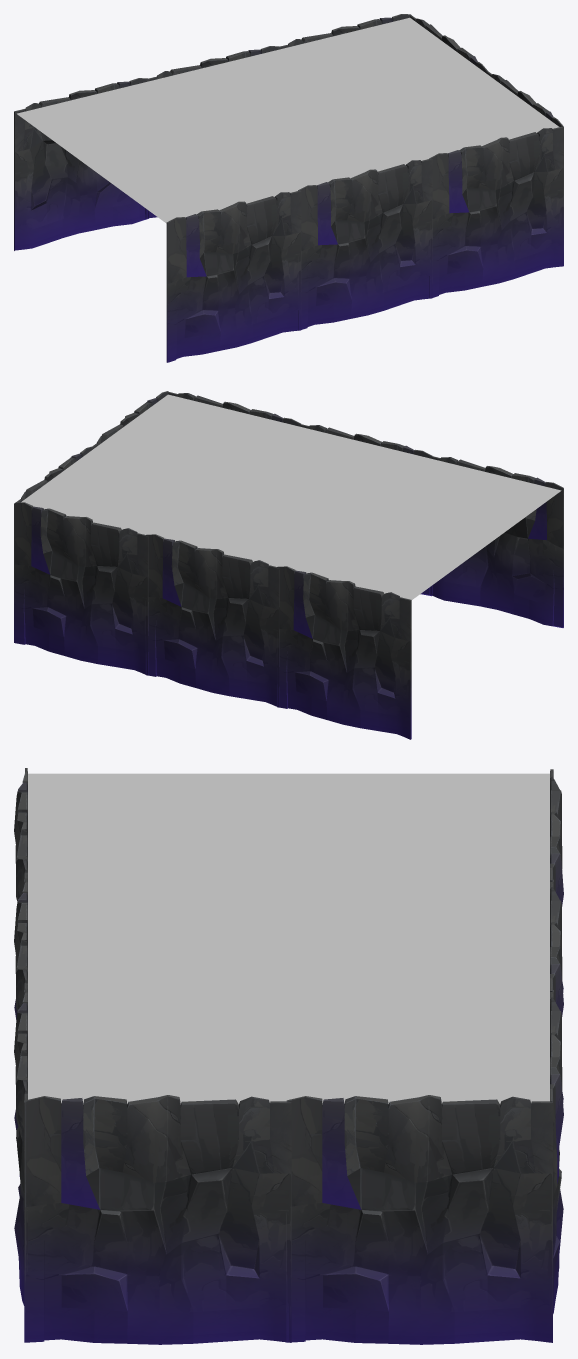
The model's file is Floor_RecLD.FBX.
3 renders of one model, top to bottom at view 1: azimuth 30°, elevation 25°; view 2: azimuth 150°, elevation 25°; view 3: azimuth 270°, elevation 25°, orthographic. The views are drawn at different scales.
Parts seen in each view (by area): view 1: Floor_RecLD, floor; view 2: Floor_RecLD, floor; view 3: floor, Floor_RecLD.
Boxes of the visible parts, box(x1,y1,x2,y2) form: Floor_RecLD: box(14, 14, 563, 362); floor: box(17, 17, 559, 223); Floor_RecLD: box(14, 391, 563, 739); floor: box(21, 394, 561, 599); floor: box(28, 773, 549, 1104); Floor_RecLD: box(14, 768, 563, 1344).
Size of the model in its own units: 1206 by 411 by 829.
